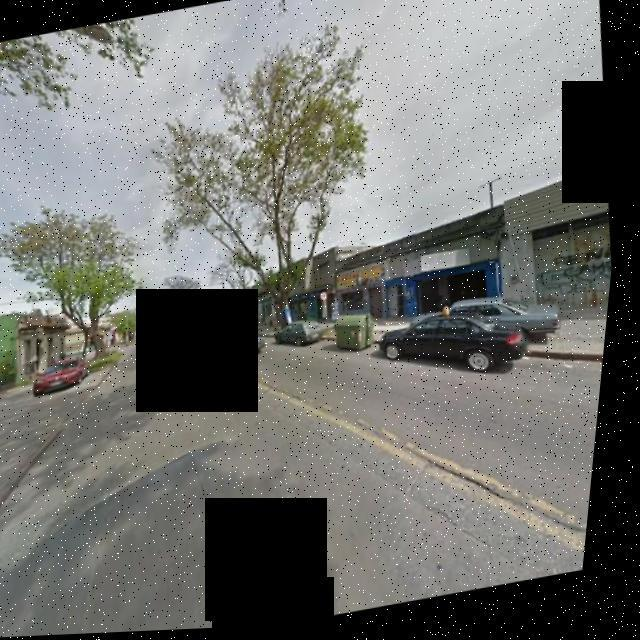bin: (329, 303, 393, 364)
